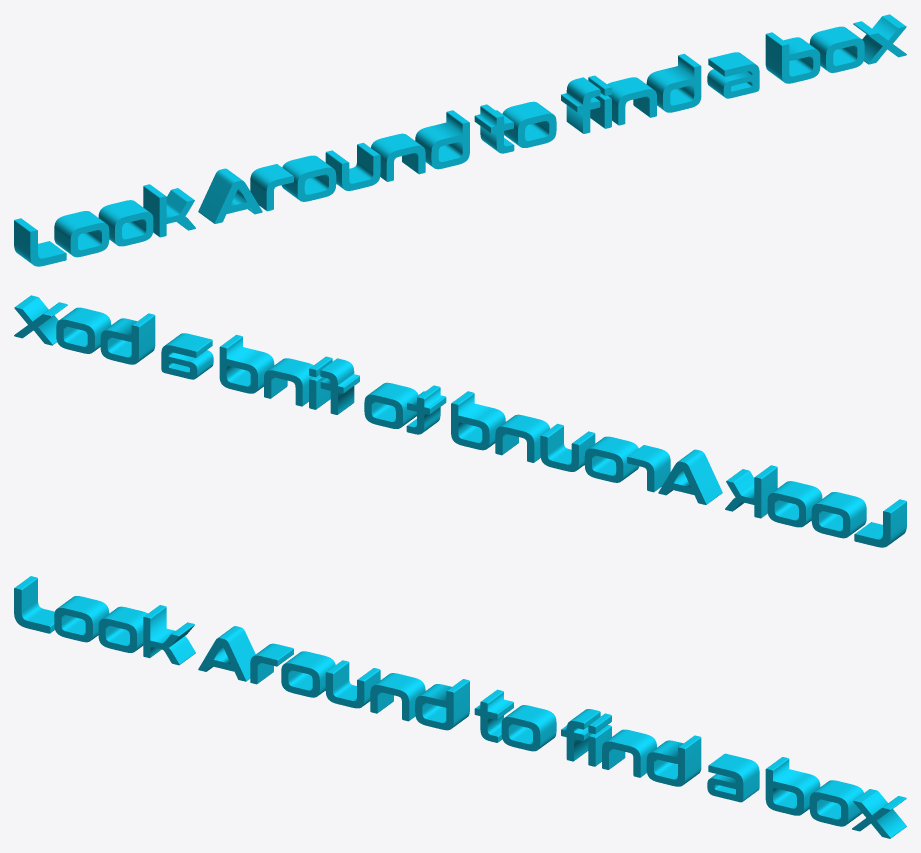
The model's file is Place_Object.glb.
The picture shows the model from 3 angles, top to bottom: view 1: azimuth 30°, elevation 25°; view 2: azimuth 150°, elevation 25°; view 3: azimuth 330°, elevation 25°; orthographic projection.
Parts seen in each view (by area): view 1: Text; view 2: Text; view 3: Text.
Boxes of the visible parts, box(x1,y1,x2,y2) form: Text: box(14, 14, 906, 266); Text: box(14, 295, 906, 547); Text: box(14, 576, 906, 838).
Size of the model in its own units: 12.4 by 0.554 by 0.4.
